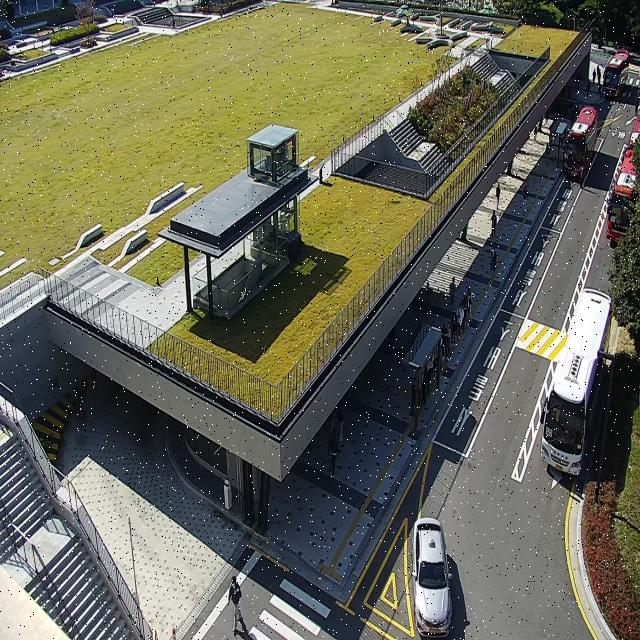queue: (416, 288, 472, 433)
